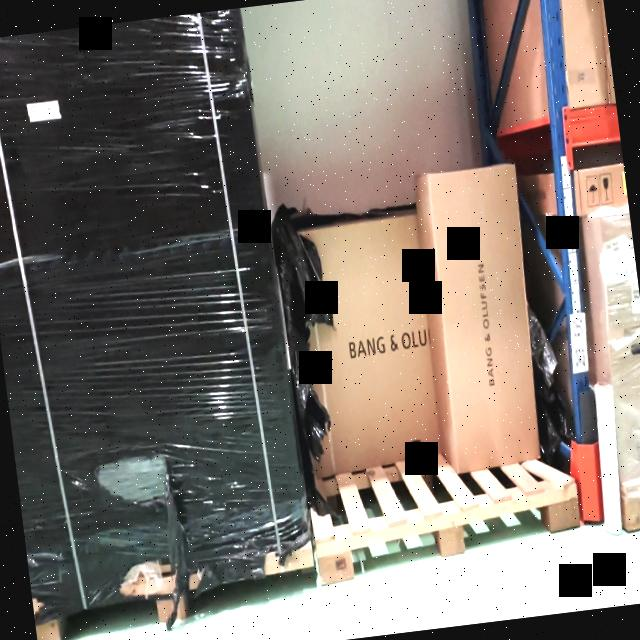box: (0, 7, 303, 580), (280, 219, 440, 471), (427, 164, 539, 471), (599, 211, 640, 483), (578, 163, 629, 215)
